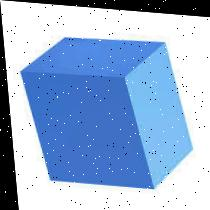cube: (16, 29, 192, 194)
